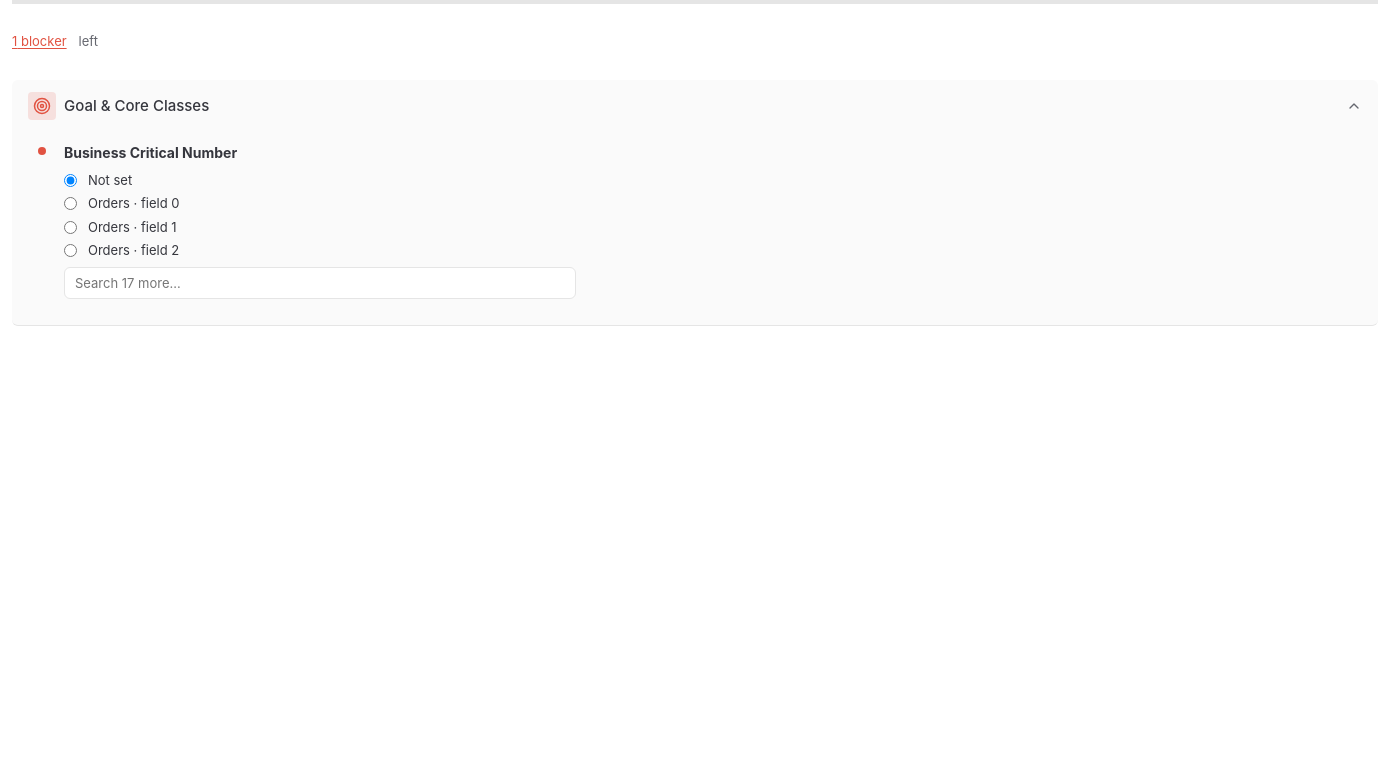
Scenario: a long option list gets a search › an empty field suggests 8, arrows move the active option, Escape closes
This screenshot has width=1378, height=768.
Later steps or results of the test are not shown.
Focus the dropdown: (320, 282) [64,266,576,298]
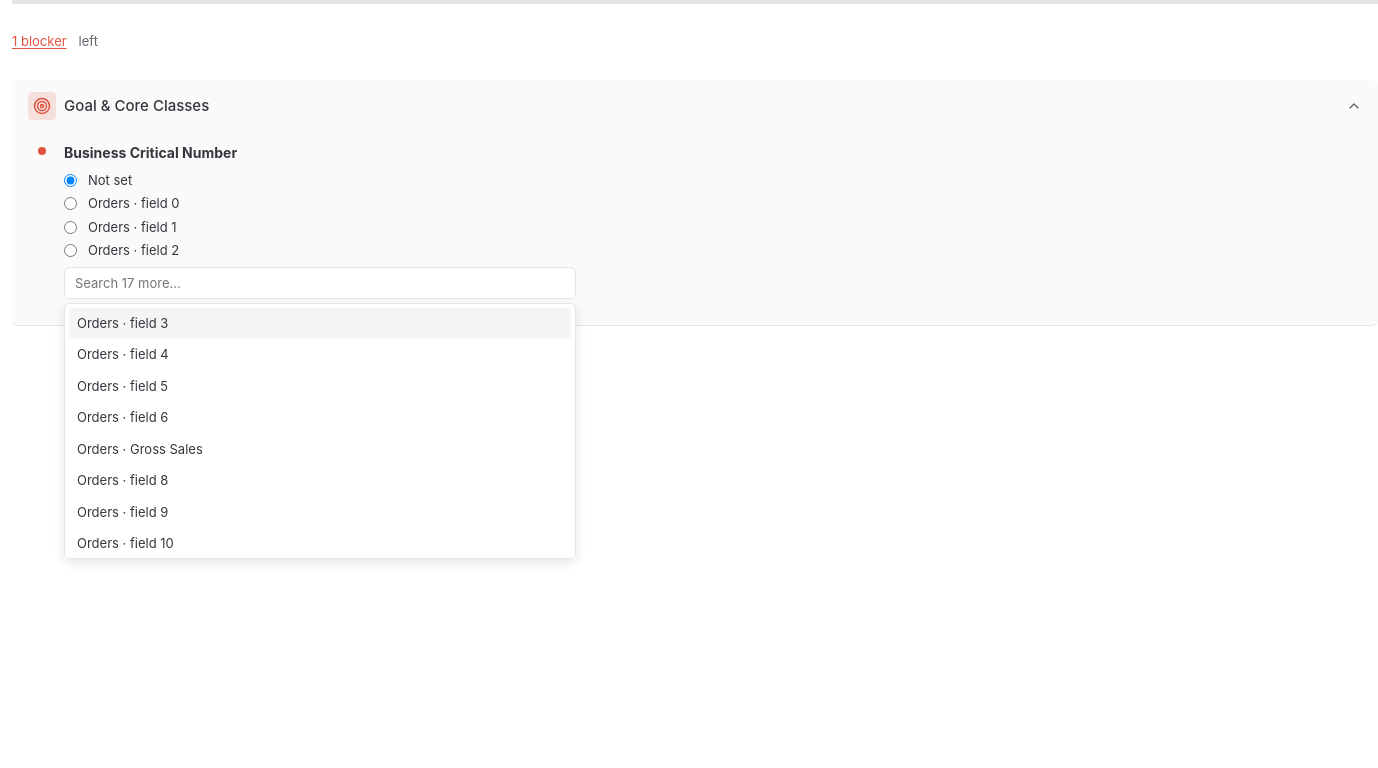
Expected: the number of options is 8
